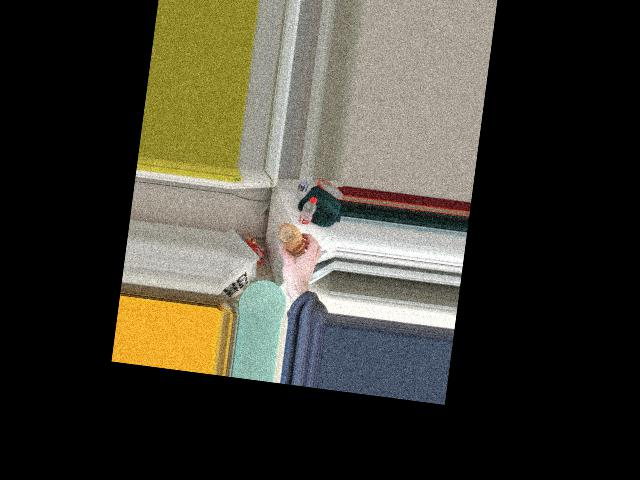sweet_potato: (276, 221, 307, 258)
